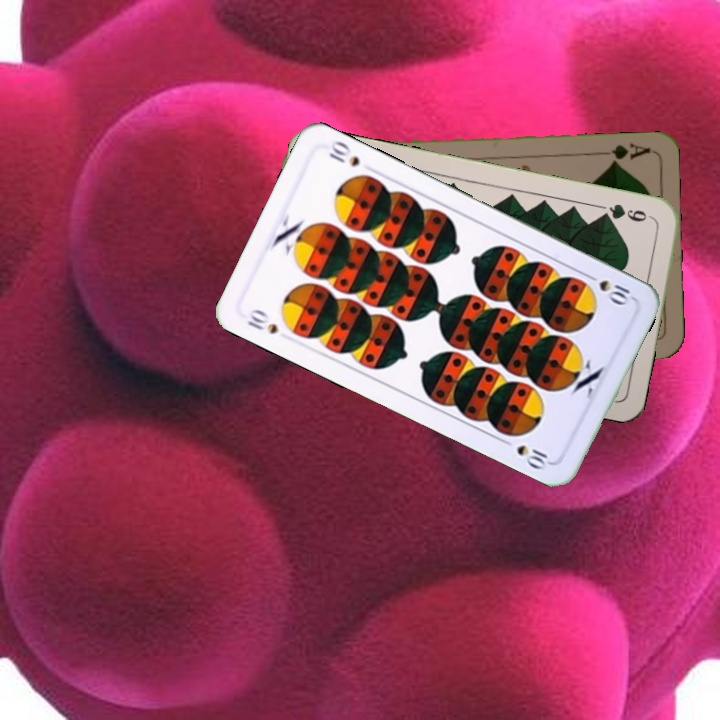G9: (595, 199, 656, 225)
GA: (594, 139, 653, 167)
S10: (581, 269, 636, 307), (242, 305, 282, 337)
